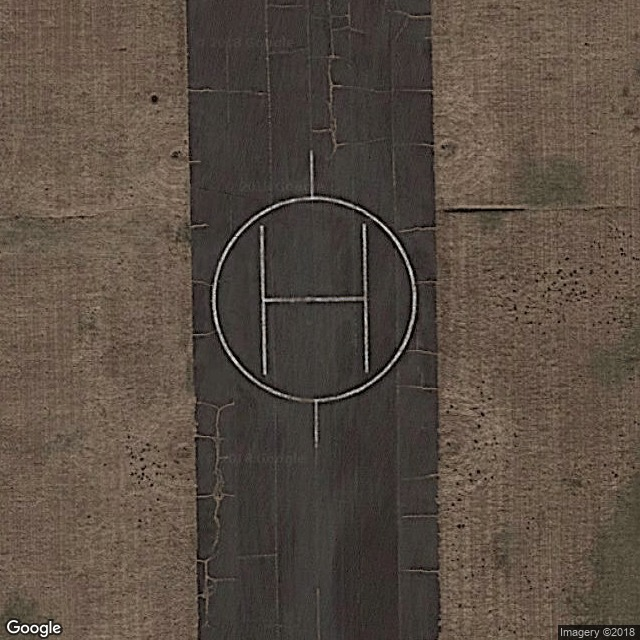heliport: (234, 181, 399, 410)
